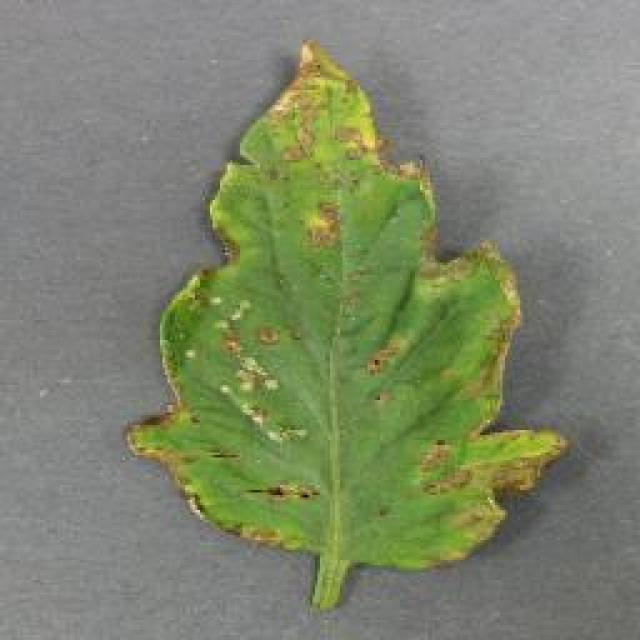Tomato bacterial spot leaf: (133, 45, 565, 593)
